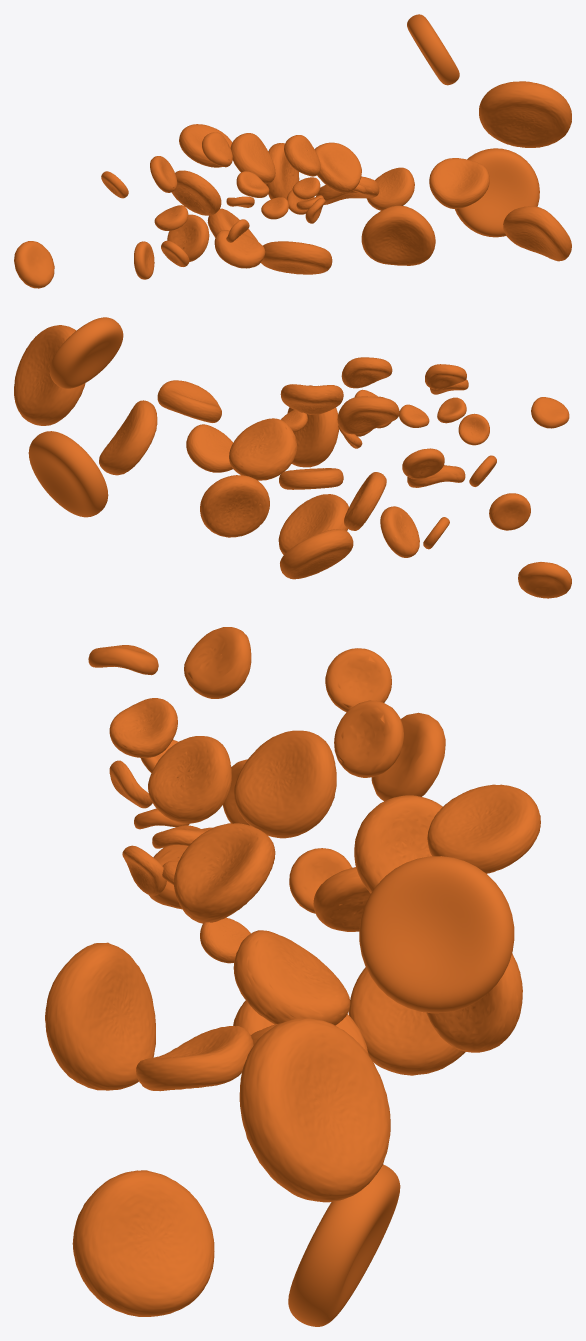
Rendered from blood cells.gltf.
3 renders of one model, top to bottom at view 1: azimuth 30°, elevation 25°; view 2: azimuth 150°, elevation 25°; view 3: azimuth 270°, elevation 25°, orthographic. The views are drawn at different scales.
Visible parts, largest first — view 1: Sphere_Sphere.012, Sphere.003_Sphere.004, Sphere.002_Sphere.008, Sphere.002_Sphere.007, Sphere.002_Sphere.009, Sphere_Sphere.002, Sphere.002_Sphere.005, Sphere.003_Sphere.001, Sphere_Sphere.005, Sphere_Sphere.011, Sphere.002_Sphere.011, Sphere.002_Sphere.012 (+16 smaller); view 2: Sphere.003_Sphere.004, Sphere_Sphere.012, Sphere_Sphere.003, Sphere.003_Sphere.001, Sphere.002_Sphere.004, Sphere.002_Sphere.007, Sphere_Sphere.001, Sphere_Sphere.002, Sphere.002_Sphere.008, Sphere.002_Sphere.009, Sphere.002_Sphere.011, Sphere.002_Sphere.012 (+17 smaller); view 3: Sphere_Sphere.012, Sphere.003_Sphere.001, Sphere.002_Sphere.007, Sphere.002_Sphere.008, Sphere.003_Sphere.004, Sphere.002_Sphere.011, Sphere.002_Sphere.004, Sphere.002_Sphere.005, Sphere_Sphere.004, Sphere_Sphere.001, Sphere.002_Sphere.006, Sphere_Sphere.005 (+15 smaller).
Boxes of the visible parts, box(x1,y1,x2,y2) form: Sphere_Sphere.012: box(479, 81, 571, 147); Sphere.003_Sphere.004: box(455, 148, 539, 237); Sphere.002_Sphere.008: box(361, 205, 435, 265); Sphere.002_Sphere.007: box(503, 206, 571, 261); Sphere.002_Sphere.009: box(429, 158, 489, 208); Sphere_Sphere.002: box(260, 241, 332, 274); Sphere.002_Sphere.005: box(314, 142, 361, 193); Sphere.003_Sphere.001: box(407, 14, 459, 85); Sphere_Sphere.005: box(172, 170, 221, 215); Sphere_Sphere.011: box(14, 241, 54, 288); Sphere.002_Sphere.011: box(230, 133, 275, 184); Sphere.002_Sphere.012: box(366, 167, 414, 210); Sphere.003_Sphere.004: box(28, 431, 108, 517); Sphere_Sphere.012: box(14, 325, 85, 425); Sphere_Sphere.003: box(200, 475, 269, 537); Sphere.003_Sphere.001: box(49, 317, 123, 388); Sphere.002_Sphere.004: box(229, 418, 297, 480); Sphere.002_Sphere.007: box(99, 400, 157, 475); Sphere_Sphere.001: box(280, 529, 353, 579); Sphere_Sphere.002: box(278, 494, 348, 554); Sphere.002_Sphere.008: box(287, 385, 338, 467); Sphere.002_Sphere.009: box(157, 380, 221, 422); Sphere.002_Sphere.011: box(337, 396, 399, 434); Sphere.002_Sphere.012: box(186, 424, 232, 472); Sphere_Sphere.012: box(239, 1018, 390, 1202); Sphere.003_Sphere.001: box(359, 856, 514, 1013); Sphere.002_Sphere.007: box(72, 1170, 214, 1316); Sphere.002_Sphere.008: box(45, 942, 155, 1090); Sphere.003_Sphere.004: box(288, 1164, 400, 1326); Sphere.002_Sphere.011: box(234, 730, 336, 838); Sphere.002_Sphere.004: box(233, 930, 350, 1025); Sphere.002_Sphere.005: box(174, 823, 275, 923); Sphere_Sphere.004: box(427, 784, 540, 873); Sphere_Sphere.001: box(348, 967, 465, 1075); Sphere.002_Sphere.006: box(148, 736, 231, 823); Sphere_Sphere.005: box(354, 795, 442, 893).
Bounding box in the file's own units: 2.64 × 0.9948 × 1.08.
